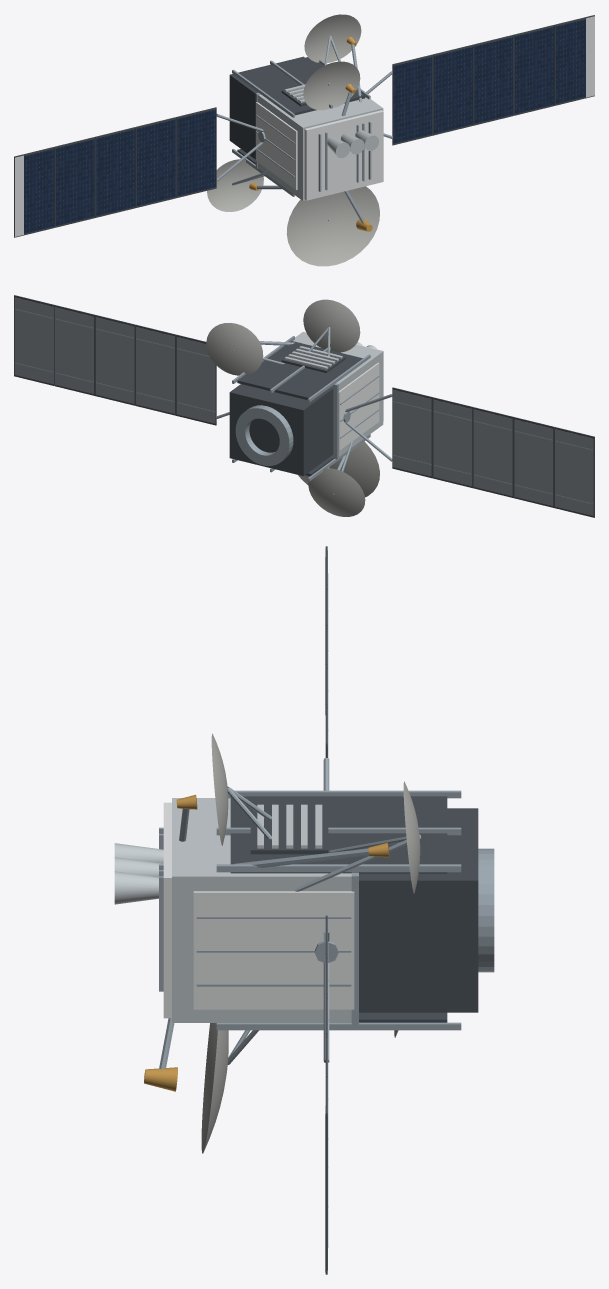
Rendered from amc-hybrid-ka-ku.glb.
3 views of the same model, one above another, from view 1: azimuth 30°, elevation 25°; view 2: azimuth 150°, elevation 25°; view 3: azimuth 270°, elevation 25° (orthographic). The views are drawn at different scales.
Visible parts, largest first — view 1: Solar cell panel (×10), Communications reflector (×4), Earth-facing deck, Solar panel frame (×10), Payload module, Radiator face, Equipment bay sidewall, Service module, White wing tip (×2); view 2: Rear array substrate (×10), Communications reflector (×4), Service module, Solar panel frame (×10), Equipment bay sidewall, Radiator face, Launch adapter ring, Payload module, Module interface, Louvre surround, Equipment bay longeron; view 3: Service module, Radiator face, Payload module, Equipment bay sidewall (×2), Equipment bay longeron (×4), Communications reflector (×3), Louvre surround, Launch adapter ring, Earth-facing deck, Payload feed cluster, Offset feed boom.
Boxes of the visible parts, left/top/right/bottom form: Solar cell panel (×10): left=24, top=19, right=585, bottom=233; Communications reflector (×4): left=207, top=14, right=379, bottom=266; Earth-facing deck: left=304, top=110, right=383, bottom=200; Solar panel frame (×10): left=14, top=15, right=594, bottom=237; Payload module: left=258, top=94, right=383, bottom=200; Radiator face: left=256, top=102, right=297, bottom=189; Equipment bay sidewall: left=240, top=57, right=365, bottom=115; Service module: left=229, top=56, right=304, bottom=159; White wing tip (×2): left=14, top=16, right=594, bottom=236; Rear array substrate (×10): left=14, top=297, right=593, bottom=515; Communications reflector (×4): left=206, top=299, right=379, bottom=516; Service module: left=229, top=384, right=333, bottom=475; Solar panel frame (×10): left=14, top=295, right=594, bottom=517; Equipment bay sidewall: left=237, top=341, right=362, bottom=399; Radiator face: left=338, top=362, right=379, bottom=450; Launch adapter ring: left=235, top=405, right=293, bottom=465; Payload module: left=293, top=332, right=383, bottom=456; Module interface: left=330, top=383, right=338, bottom=459; Louvre surround: left=281, top=347, right=345, bottom=372; Equipment bay longeron: left=307, top=354, right=370, bottom=402; Service module: left=359, top=808, right=478, bottom=1012; Radiator face: left=193, top=891, right=354, bottom=1009; Payload module: left=172, top=798, right=351, bottom=1022; Equipment bay sidewall (×2): left=230, top=796, right=447, bottom=1022; Equipment bay longeron (×4): left=216, top=790, right=461, bottom=1030; Communications reflector (×3): left=201, top=733, right=420, bottom=1153; Louvre surround: left=250, top=806, right=328, bottom=854; Launch adapter ring: left=478, top=848, right=494, bottom=972; Earth-facing deck: left=163, top=802, right=171, bottom=1018; Payload feed cluster: left=114, top=871, right=158, bottom=904; Offset feed boom: left=235, top=848, right=368, bottom=867.
Bounding box in the file's own units: 25.98 × 8.59 × 7.36.
8 materials, 1 textured.
